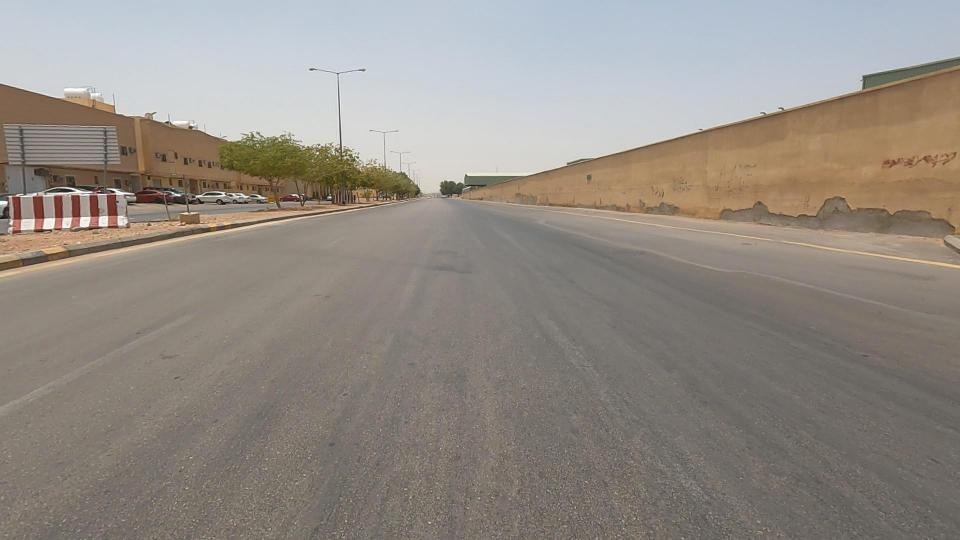GRAFFITI: (820, 120, 960, 203)
